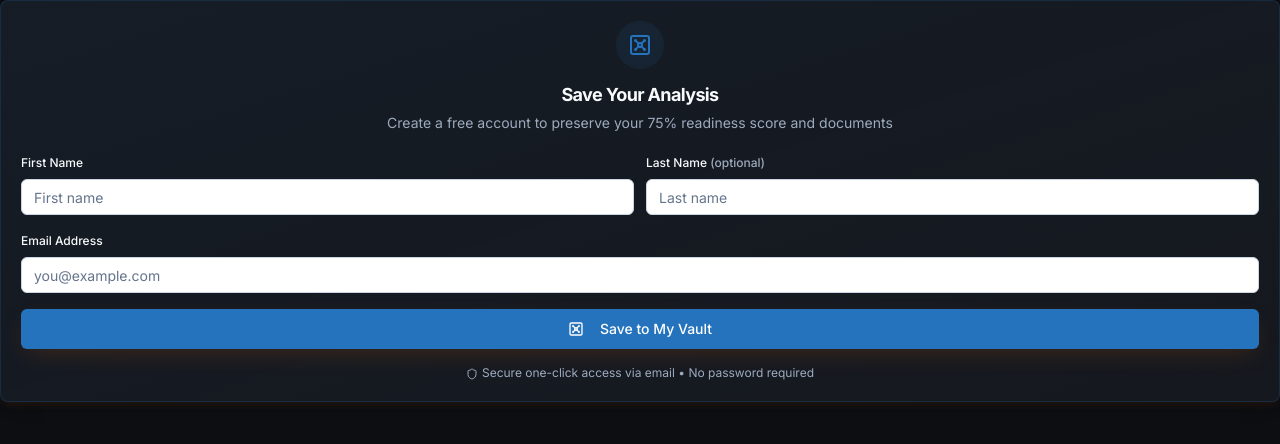
Test: ClaimVaultSyncButton › Form Validation › shows validation error for invalid email format
Step 1. Type "invalid-email" into the field labelled "Email Address" → [640, 275], box [21,257,1259,293]
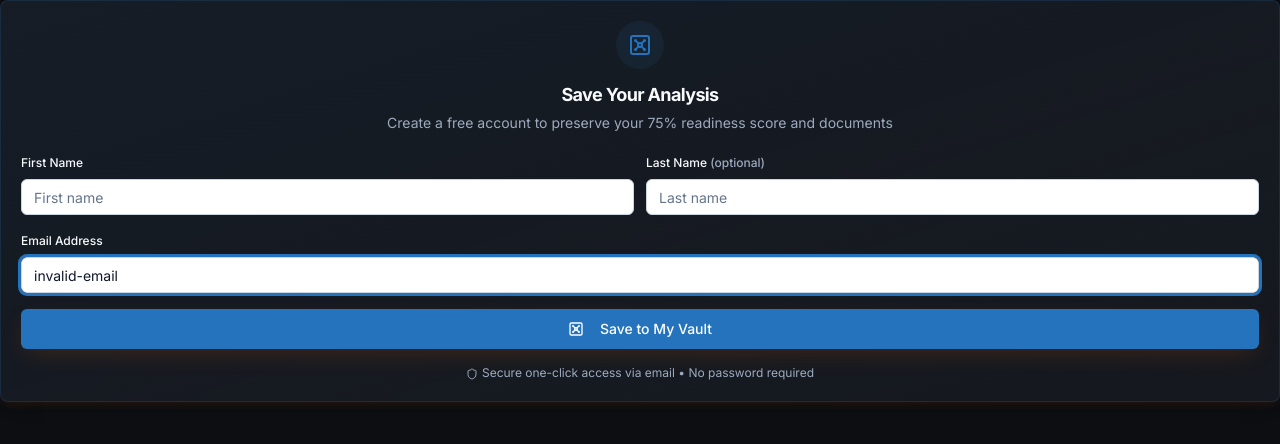
Step 2. Leave the field labelled "Email Address", box [21,257,1259,293]
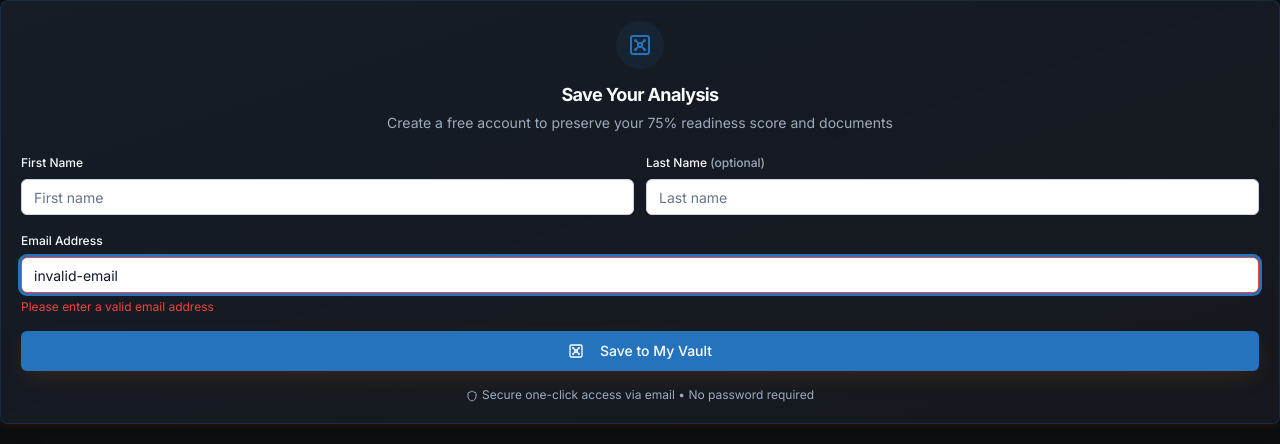
Expected: the text "Please enter a valid email address" is shown, [21,299,214,314]
